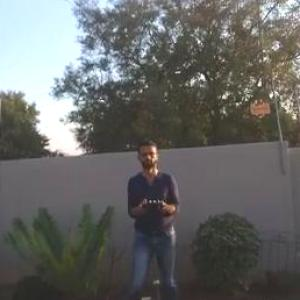follow: (106, 132, 181, 299)
